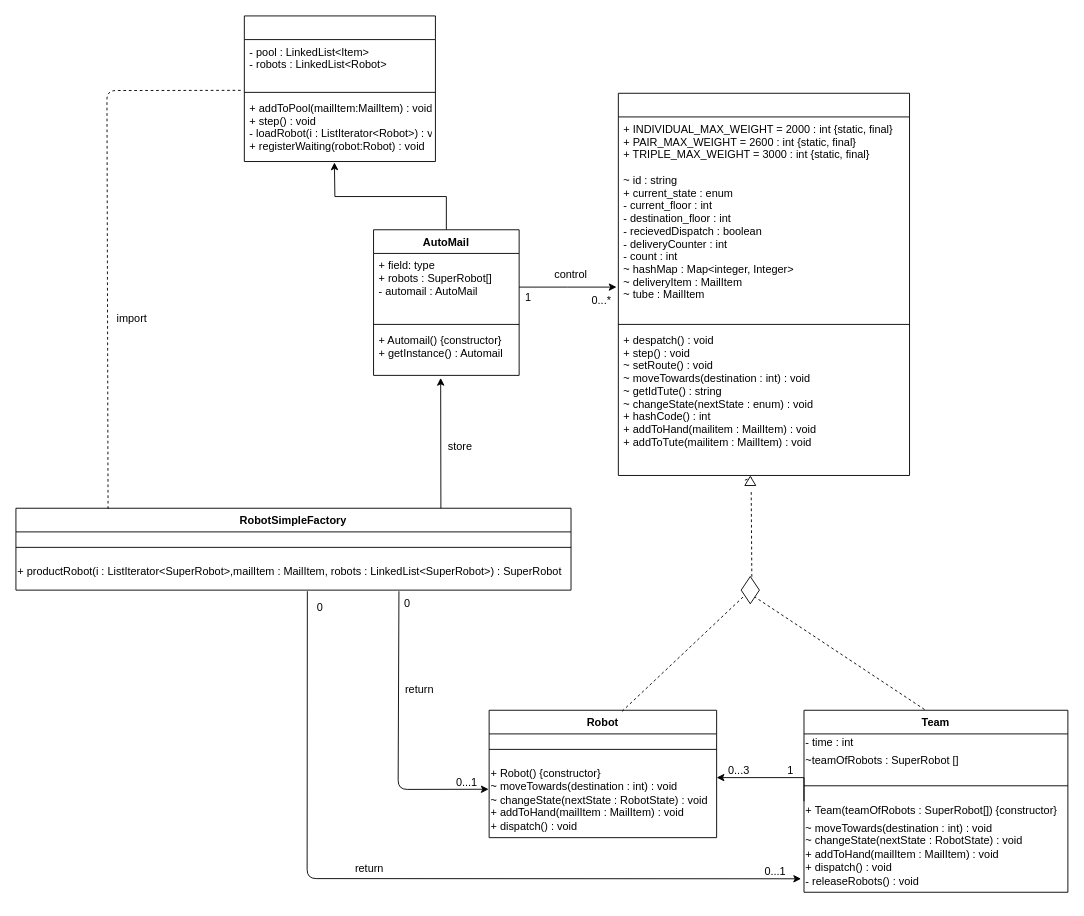
This 1084x916 diagram has some shape labels left out. The box of each missing label's shape, as (x1, y1, x2, y2) in pixels:
MailPool: (243, 15, 435, 162)
SuperRobots: (617, 92, 910, 475)
